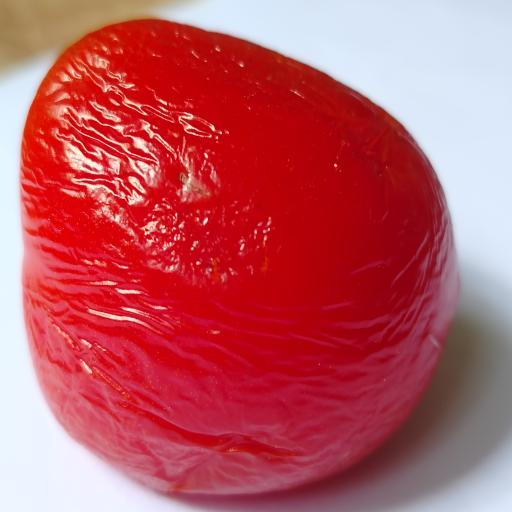spoiled: (20, 20, 458, 494)
